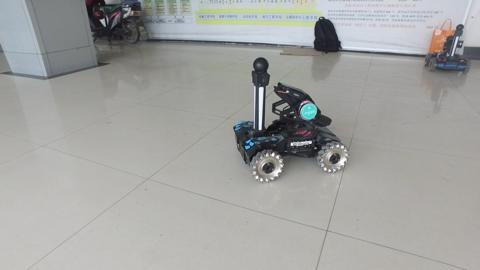bag: (311, 15, 345, 54), (429, 15, 456, 55)
chariot: (232, 56, 349, 182), (422, 22, 470, 75)
